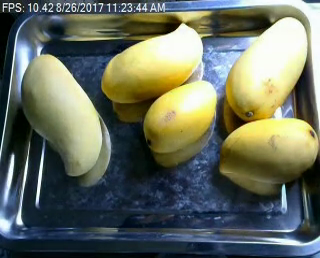Mango: (20, 55, 103, 176), (224, 16, 309, 120), (102, 23, 204, 103), (222, 118, 318, 181), (143, 80, 218, 154)
